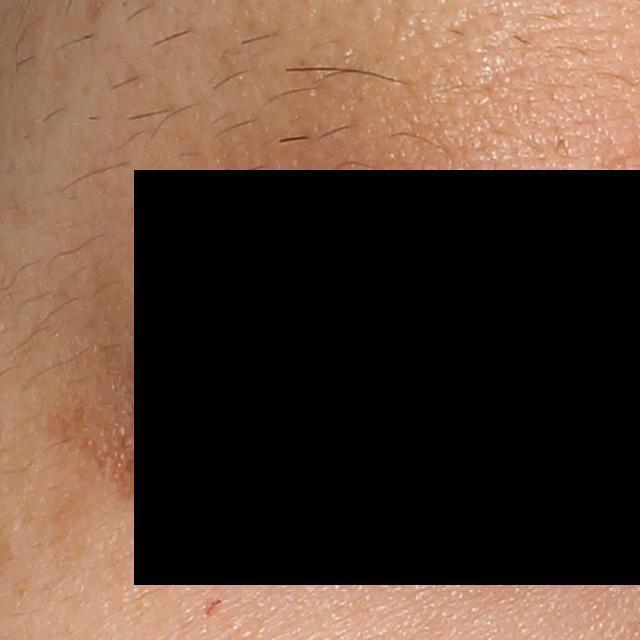melasma: (43, 403, 179, 505)
